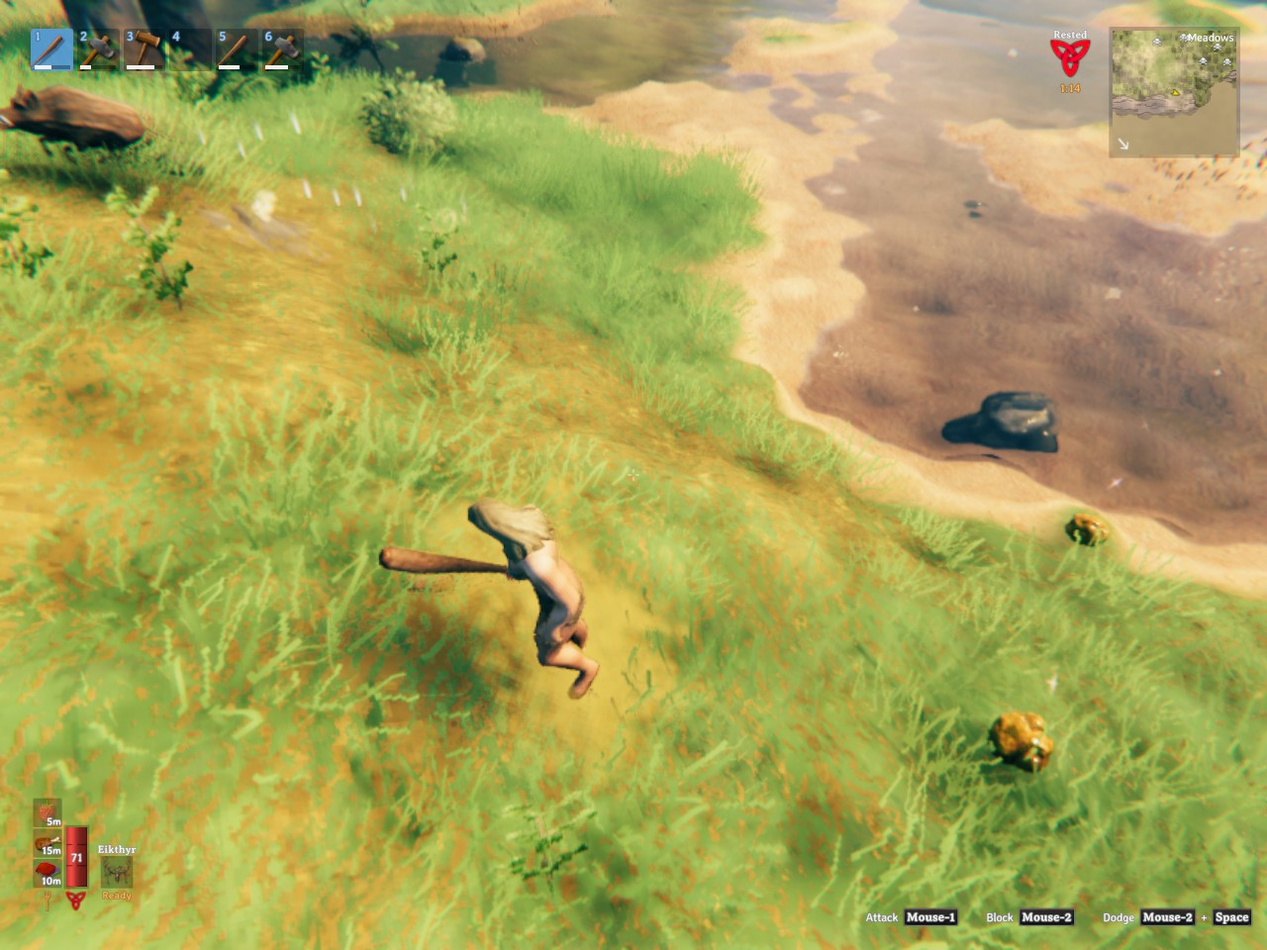Boar: (0, 85, 145, 153)
Food Indicator: (36, 797, 63, 891)
Health Bar: (63, 820, 90, 891)
Hotbar: (25, 21, 398, 78)
Resin: (989, 712, 1053, 772), (1065, 513, 1110, 545)
Status Indicator: (1039, 25, 1106, 101)
